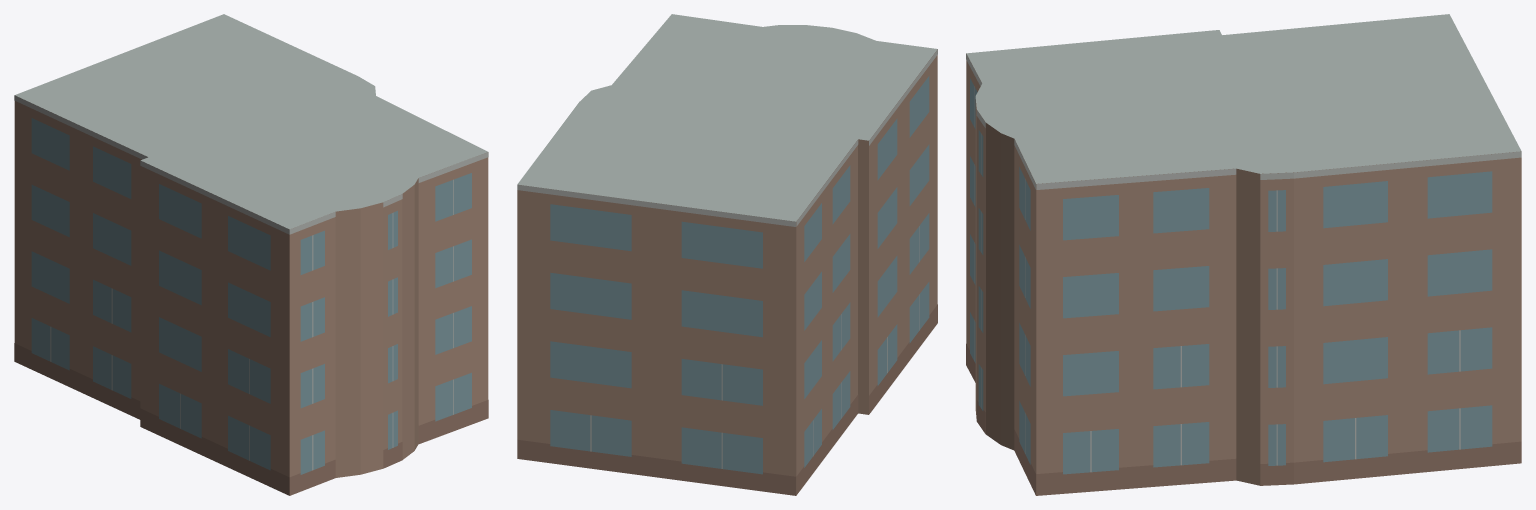
File: survey-upis-32713642.glb
3 renders of one model, left to right at view 1: azimuth 30°, elevation 25°; view 2: azimuth 150°, elevation 25°; view 3: azimuth 270°, elevation 25°, orthographic. The views are drawn at different scales.
Parts seen in each view (by area): view 1: survey-upis-32713642.tmp; view 2: survey-upis-32713642.tmp; view 3: survey-upis-32713642.tmp.
Boxes of the visible parts, x1,y1,x2,y2 form: survey-upis-32713642.tmp: [14, 14, 488, 495]; survey-upis-32713642.tmp: [517, 14, 937, 495]; survey-upis-32713642.tmp: [966, 14, 1521, 495].
Bounding box in the file's own units: 14.26 × 12.2 × 19.69.
